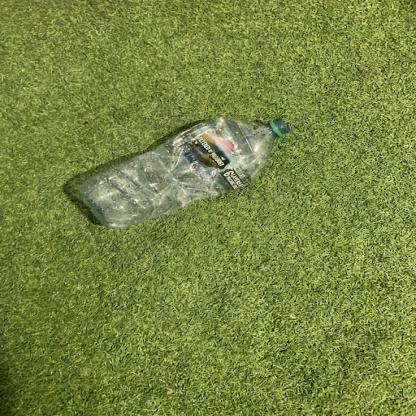trash: (71, 113, 294, 231)
